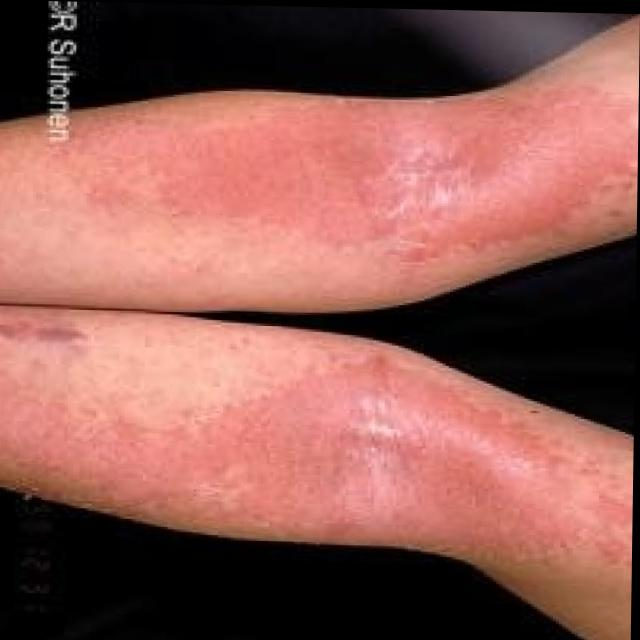Eczema: (121, 71, 620, 266), (114, 376, 608, 531)
